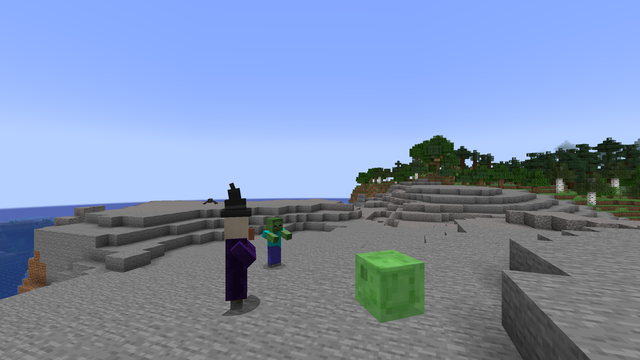araignees: (203, 197, 217, 204)
slimes: (358, 247, 414, 323)
sorcieres: (215, 209, 256, 312)
zombies: (264, 218, 283, 268)
